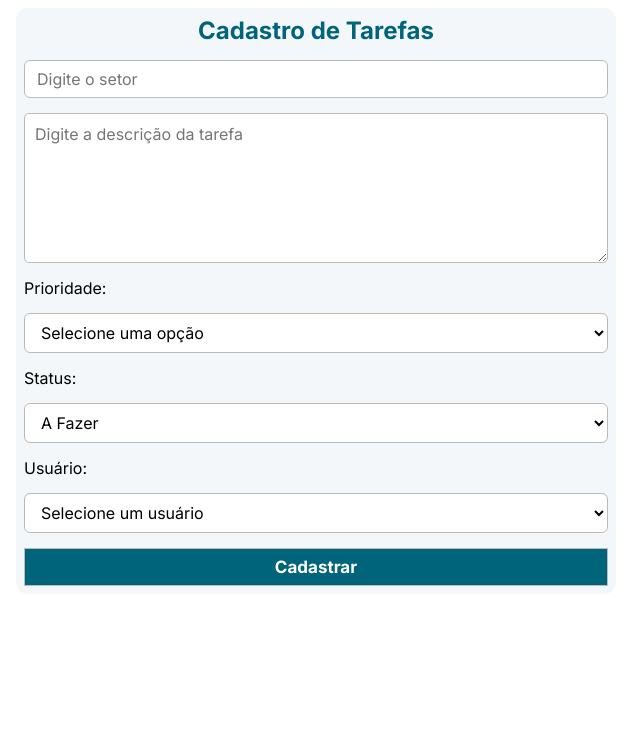
Scenario: Cadastro de tarefas › deve mostrar erro para caracteres especiais não permitidos
The width and height of the screenshot is (633, 751).
Type "Tarefa @ urgente #1" into the text box with placeholder "Digite a descrição da tarefa" at (316, 188), box [24,113,608,263]
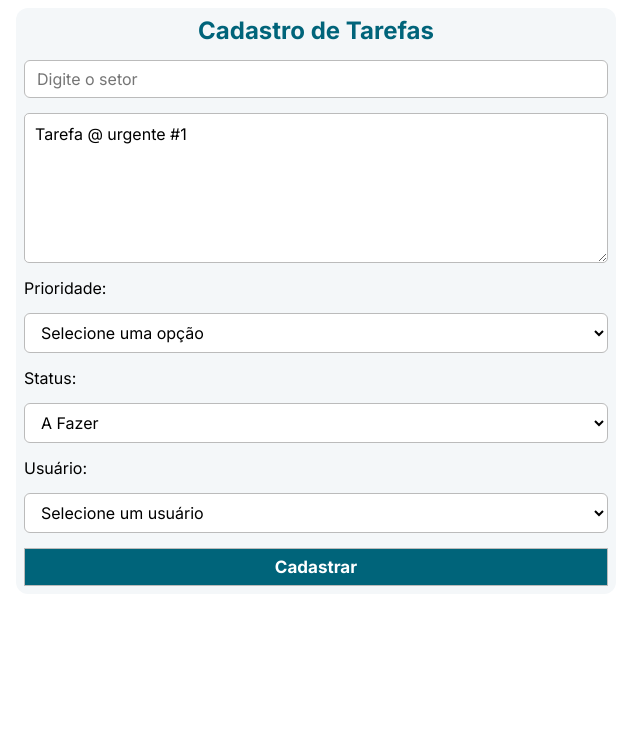
Click the button "Cadastrar" at (316, 567), box [24,548,608,586]
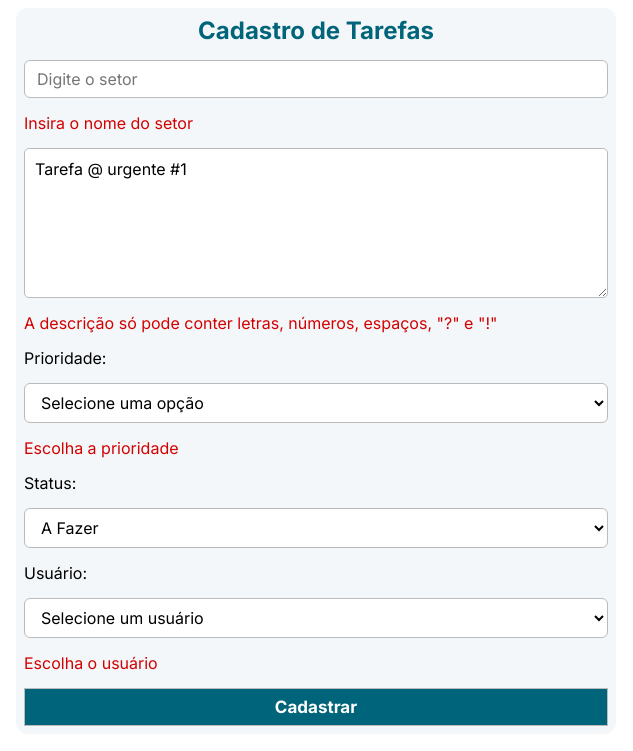
Now the text "A descrição só pode conter" is shown, box [24,313,497,333]
